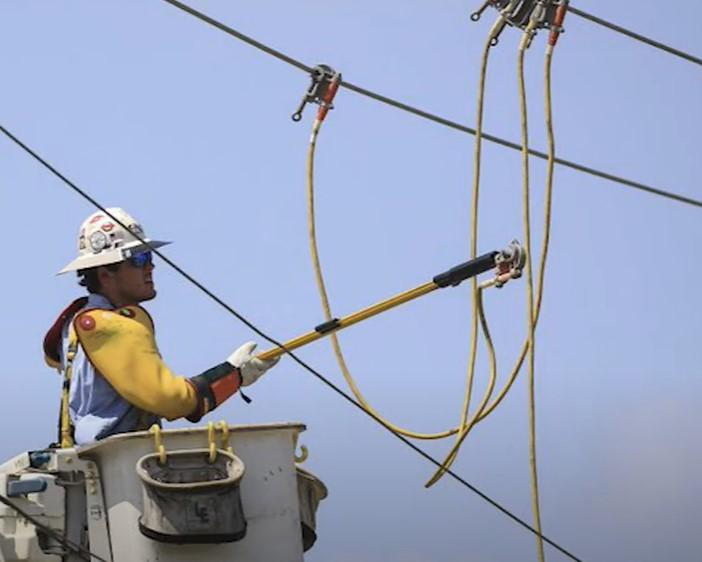Vara_Manobra: (239, 243, 508, 365)
